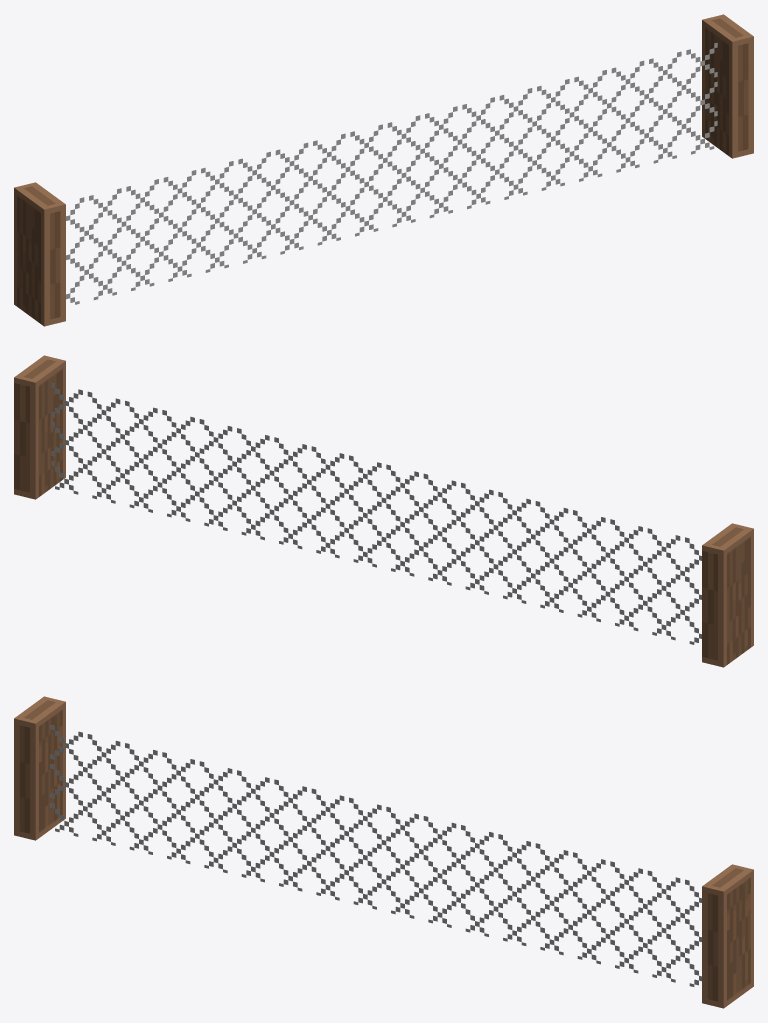
The model's file is fence_unity.fbx.
3 renders of one model, top to bottom at view 1: azimuth 30°, elevation 25°; view 2: azimuth 150°, elevation 25°; view 3: azimuth 330°, elevation 25°, orthographic.
Visible parts, largest first — view 1: Fence_Unity; view 2: Fence_Unity; view 3: Fence_Unity.
Boxes of the visible parts, x1,y1,x2,y2 form: Fence_Unity: [14, 14, 753, 326]; Fence_Unity: [14, 355, 753, 667]; Fence_Unity: [14, 696, 753, 1008].
Size of the model in its own units: 638 by 100 by 47.03.
